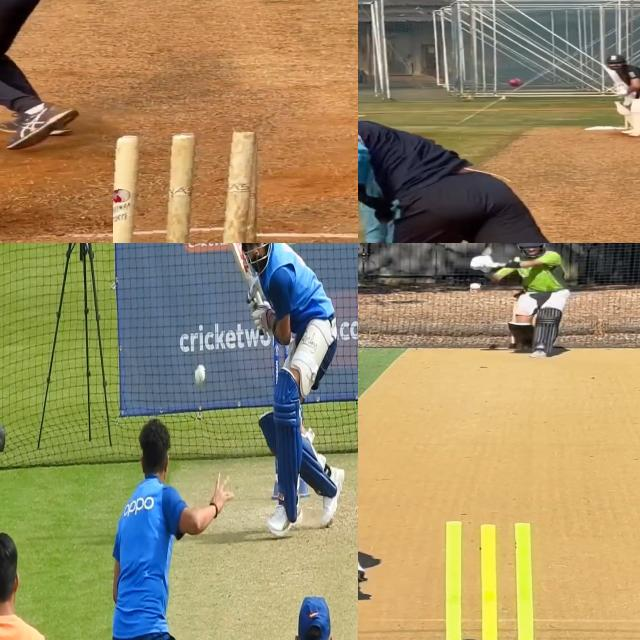Cricket ball: (195, 364, 207, 388), (508, 77, 524, 88), (470, 284, 481, 292)
Stumps: (113, 132, 259, 243), (430, 521, 553, 640)
